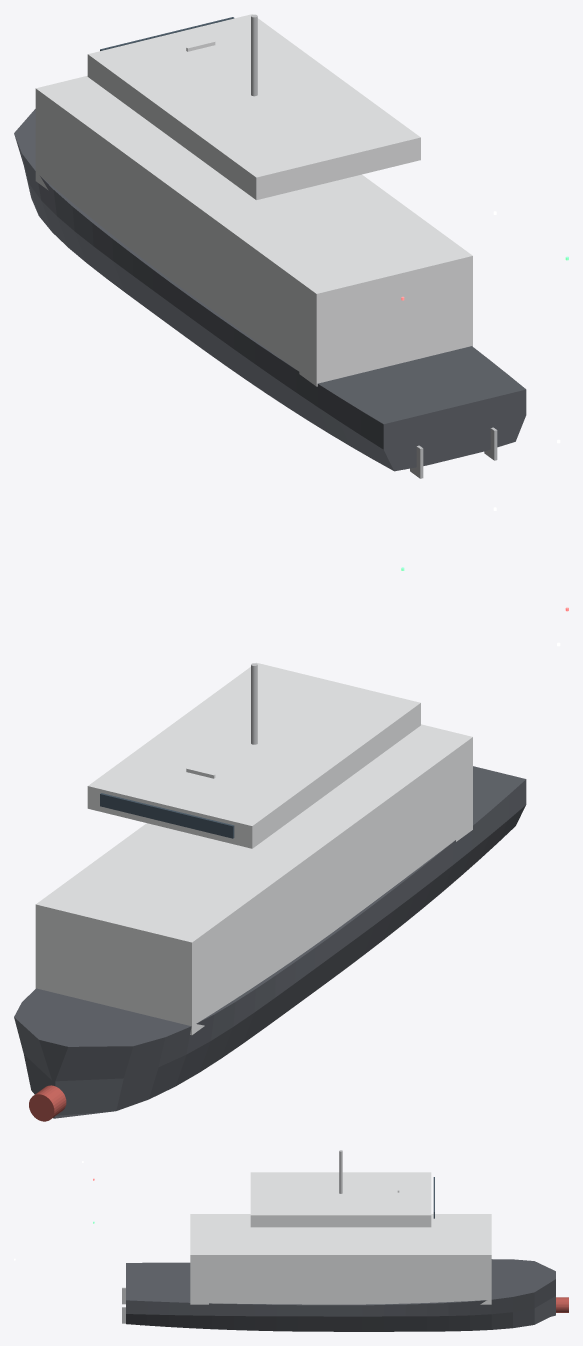
The model's file is ferry_seto.glb.
3 views of the same model, one above another, from view 1: azimuth 30°, elevation 25°; view 2: azimuth 150°, elevation 25°; view 3: azimuth 270°, elevation 25° (orthographic). The views are drawn at different scales.
Visible parts, largest first — view 1: superstructure_base, bridge_wing, ship_hull; view 2: superstructure_base, ship_hull, bridge_wing, bridge_windows, bulbous_bow; view 3: superstructure_base, ship_hull, bridge_wing.
Part boxes in pixels (bbox=[...]): superstructure_base: bbox=[35, 75, 472, 386]; bridge_wing: bbox=[87, 14, 420, 200]; ship_hull: bbox=[14, 109, 526, 471]; superstructure_base: bbox=[35, 724, 472, 1035]; ship_hull: bbox=[14, 766, 526, 1118]; bridge_wing: bbox=[87, 662, 420, 848]; bridge_windows: bbox=[100, 793, 234, 838]; bulbous_bow: bbox=[29, 1085, 66, 1121]; superstructure_base: bbox=[190, 1214, 491, 1304]; ship_hull: bbox=[126, 1259, 555, 1331]; bridge_wing: bbox=[250, 1172, 431, 1227].
Size of what is drawn, in the model's own units: 14.44 by 25.37 by 77.42.
